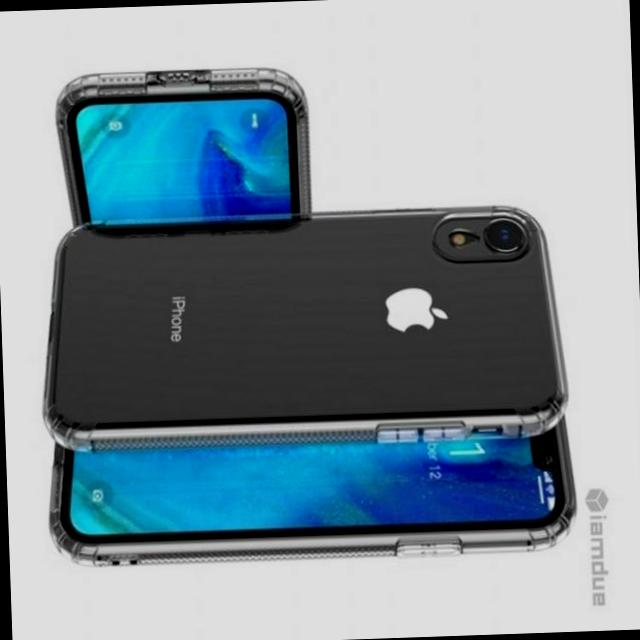lens_back: (478, 212, 530, 260)
phone: (32, 201, 574, 454), (41, 430, 584, 576), (44, 56, 328, 222)
